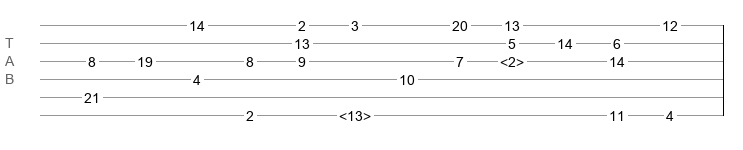10: (399, 72, 415, 82)
11: (609, 108, 625, 118)
12: (662, 18, 678, 28)
13: (294, 36, 310, 46), (504, 18, 520, 28)
14: (189, 18, 205, 28), (557, 36, 573, 46), (609, 54, 625, 64)
19: (137, 54, 153, 64)
2: (246, 108, 254, 118), (298, 18, 306, 28)
20: (452, 18, 468, 28)
21: (84, 90, 100, 100)
3: (351, 18, 359, 28)
4: (193, 72, 201, 82), (666, 108, 674, 118)
5: (508, 36, 516, 46)
6: (613, 36, 621, 46)
7: (456, 54, 464, 64)
8: (88, 54, 96, 64), (246, 54, 254, 64)
9: (298, 54, 306, 64)
harmonic: (339, 108, 371, 118), (500, 54, 524, 64)
